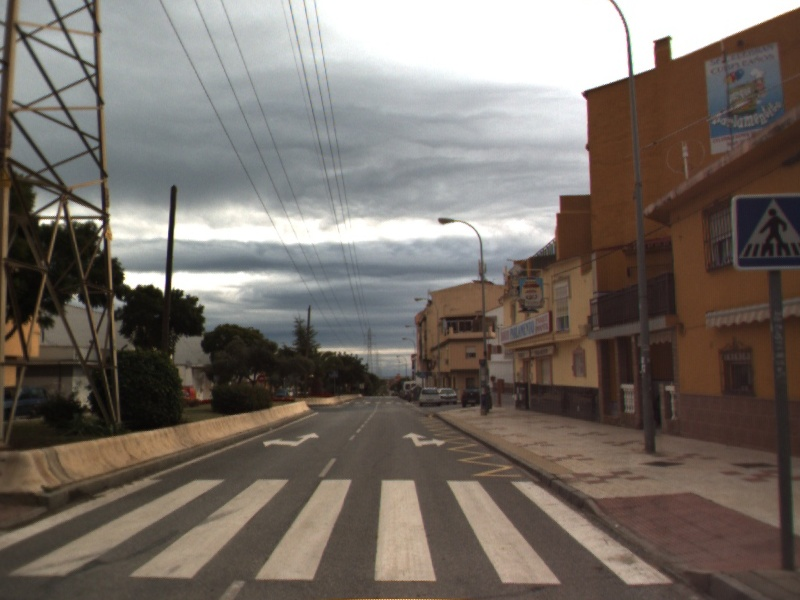STRAIGHT_LEFT: (261, 430, 321, 449)
STRAIGHT_RIGHT: (400, 430, 448, 449)
